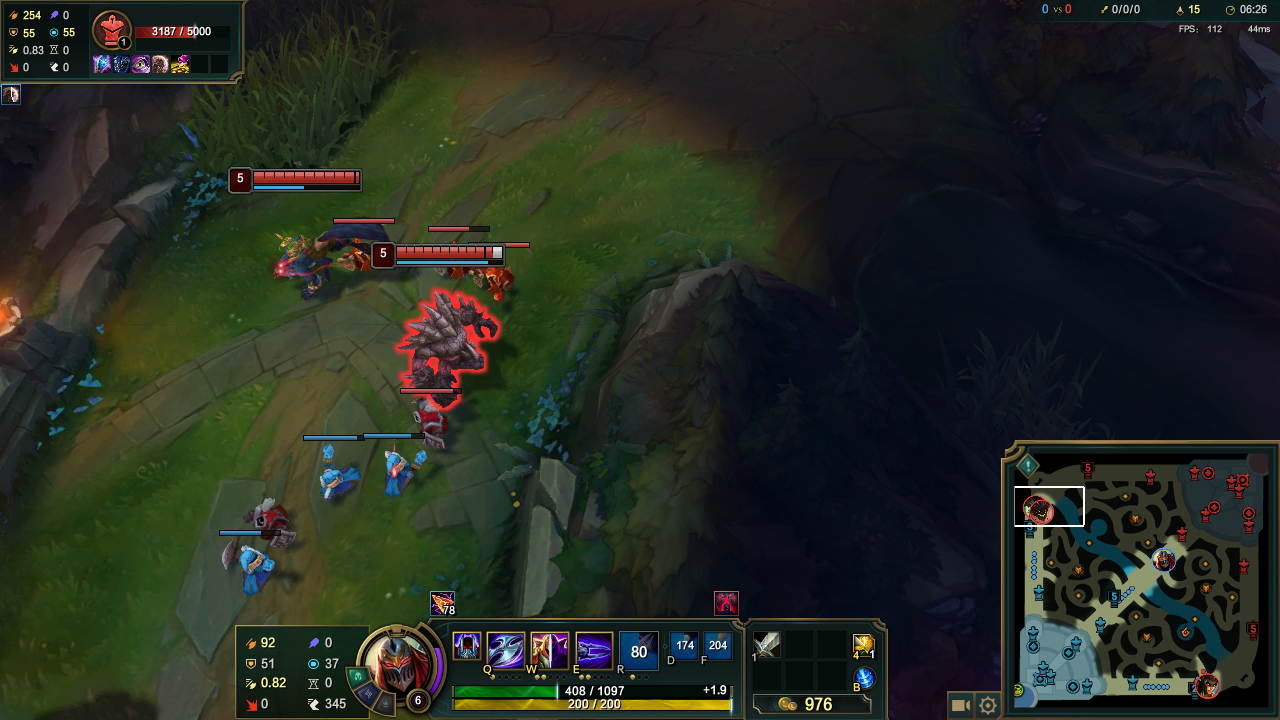DFYX: (250, 171, 361, 191), (394, 245, 507, 264)
